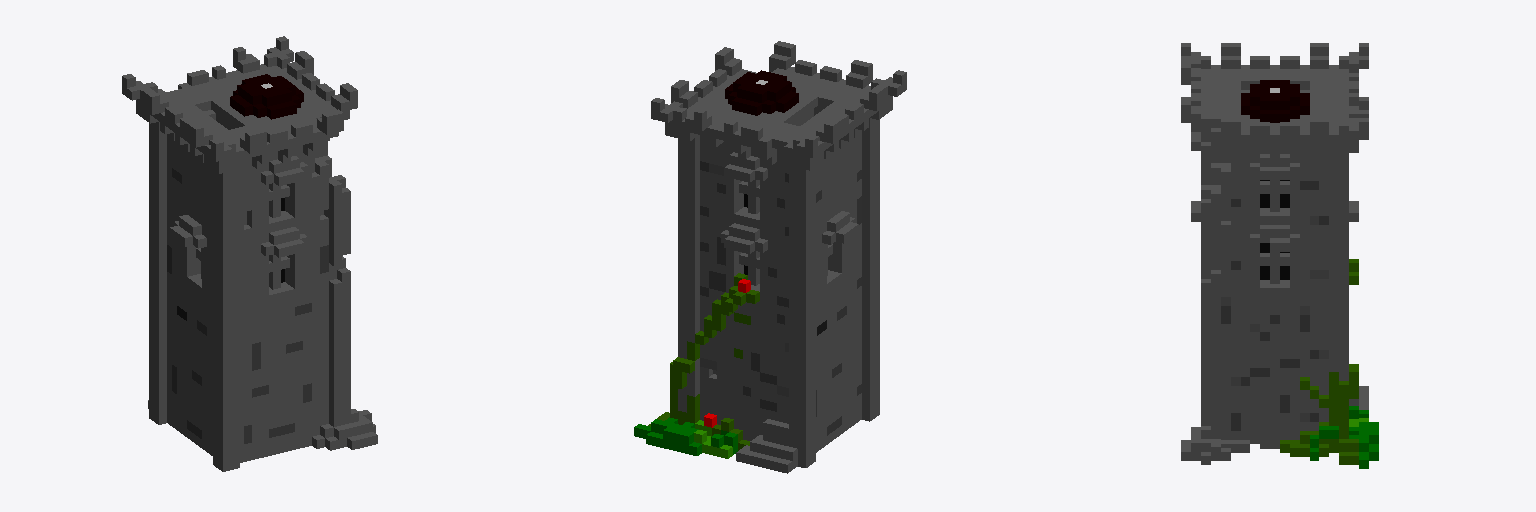
3 views of the same model, side by side, from view 1: azimuth 30°, elevation 25°; view 2: azimuth 150°, elevation 25°; view 3: azimuth 270°, elevation 25° (orthographic).
Parts seen in each view (by area): view 1: object 1; view 2: object 1; view 3: object 1.
Boxes of the visible parts, x1=… form: object 1: x1=122, y1=36, x2=377, y2=471; object 1: x1=634, y1=41, x2=906, y2=473; object 1: x1=1181, y1=43, x2=1378, y2=468.
Size of the model in its own units: 2.1 by 3.8 by 2.
Materials: 1 (1 with a texture image).